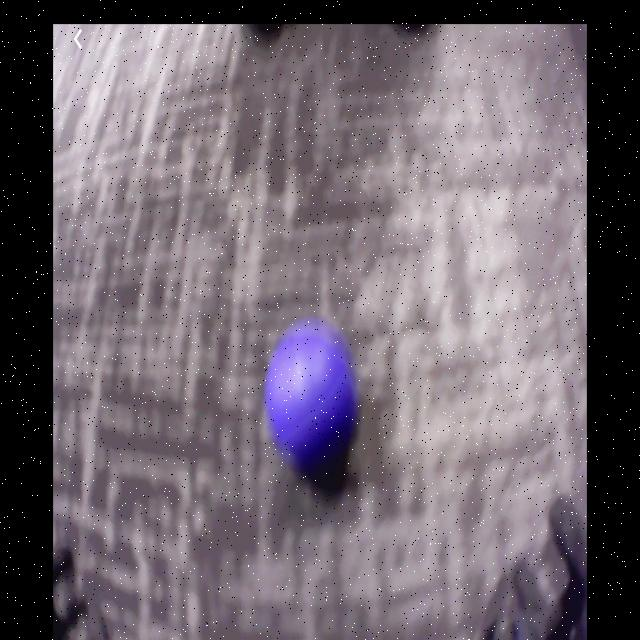ball: (266, 323, 355, 458)
